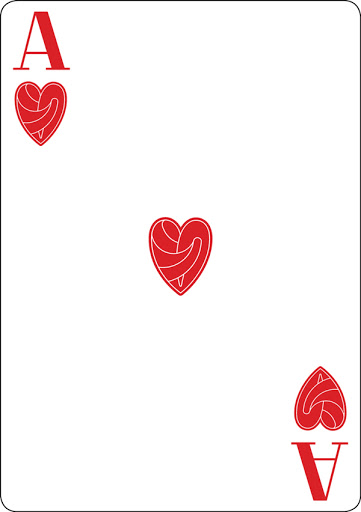ace of diamonds: (5, 7, 355, 509)
